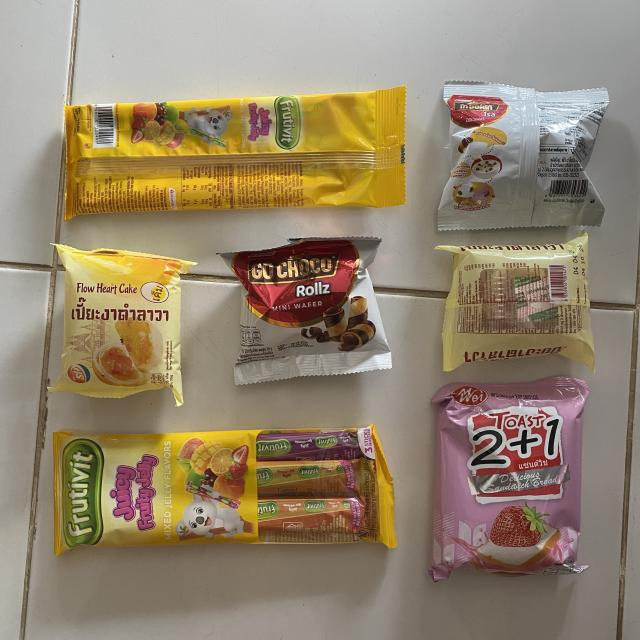plastik: (65, 86, 406, 220), (54, 425, 396, 555), (429, 376, 589, 581), (438, 81, 609, 230), (220, 238, 391, 385), (49, 245, 195, 406), (436, 230, 595, 371)
